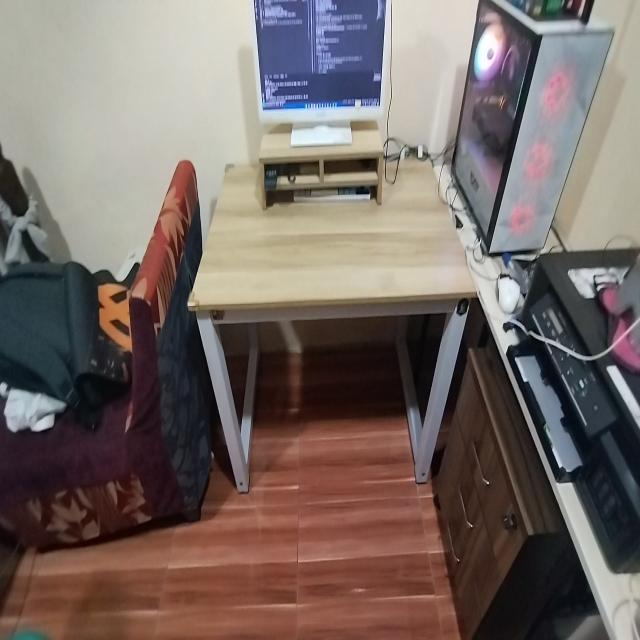table: (190, 150, 472, 489)
